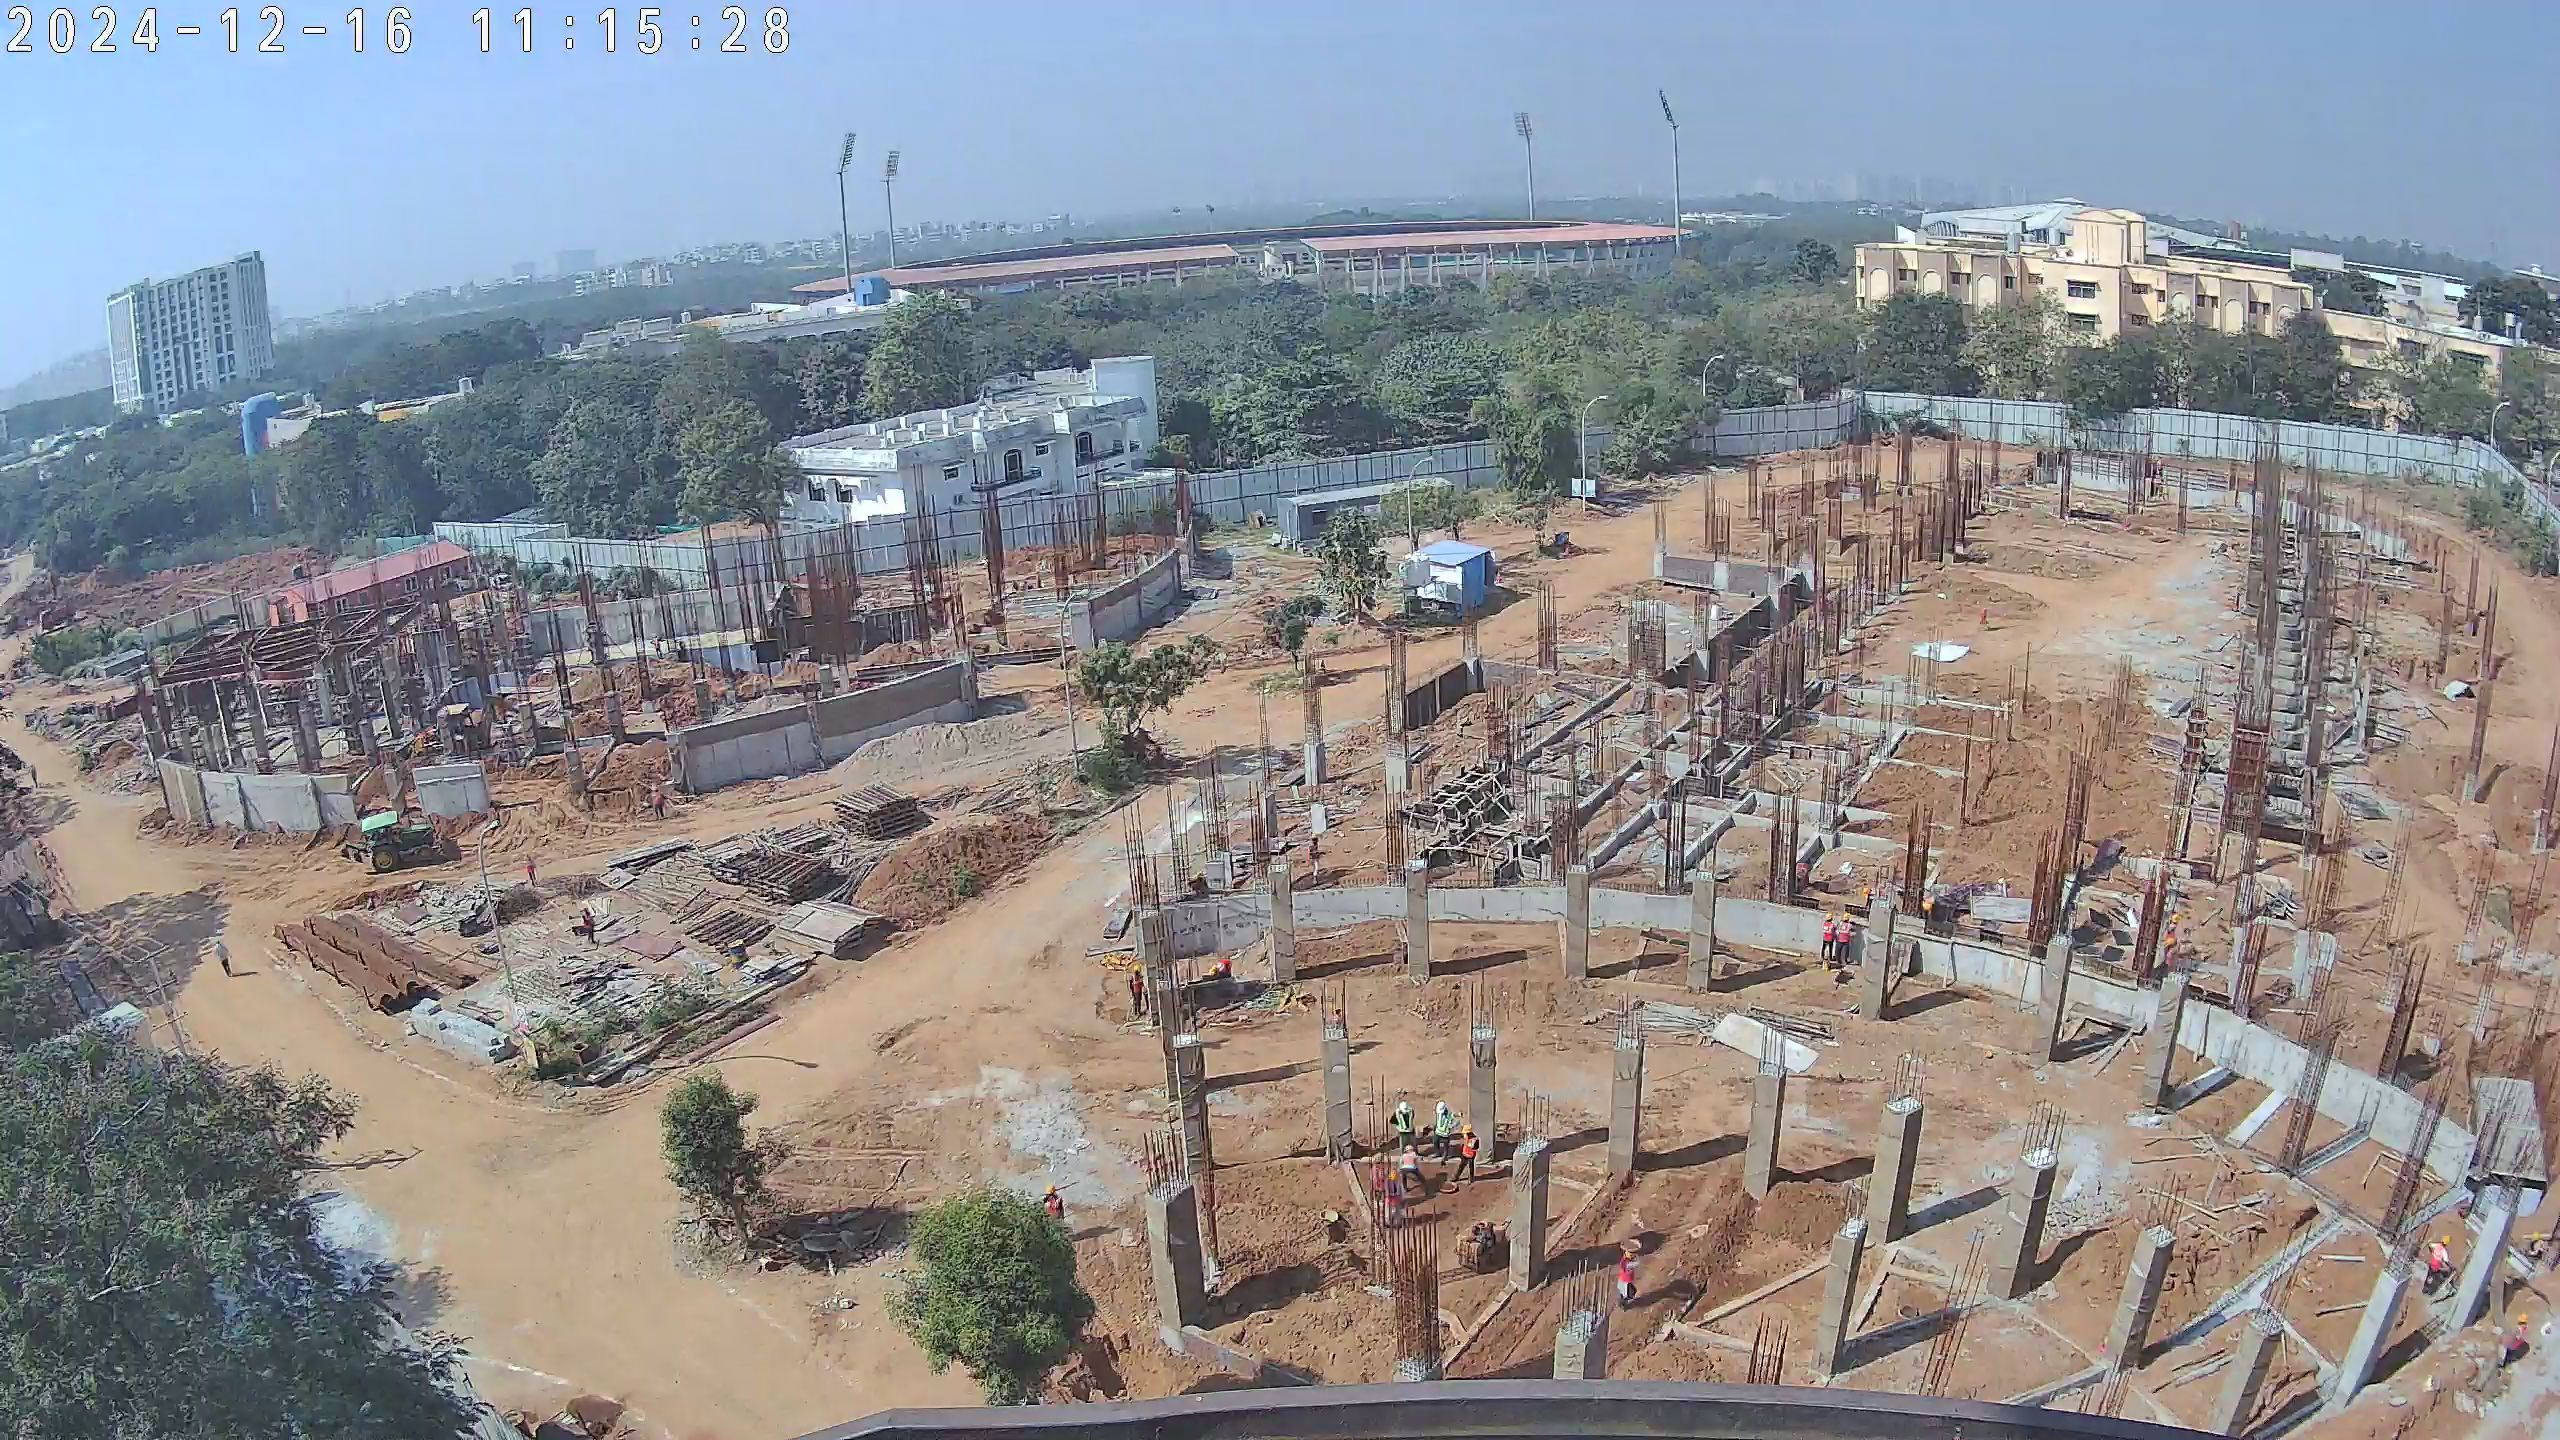bulldozer: (341, 812, 462, 879)
worker: (1381, 1093, 1425, 1195), (1602, 1236, 1653, 1312), (1449, 1124, 1499, 1189), (1029, 1185, 1072, 1247), (2422, 1231, 2456, 1304), (1430, 1097, 1460, 1170), (1380, 1162, 1408, 1226), (1121, 963, 1148, 1026), (515, 849, 545, 895), (2510, 1318, 2533, 1377), (1833, 909, 1852, 969), (1304, 833, 1326, 884), (1820, 910, 1838, 970), (2163, 914, 2181, 969), (215, 937, 236, 978), (650, 782, 668, 829), (580, 903, 599, 945), (25, 758, 45, 796)
